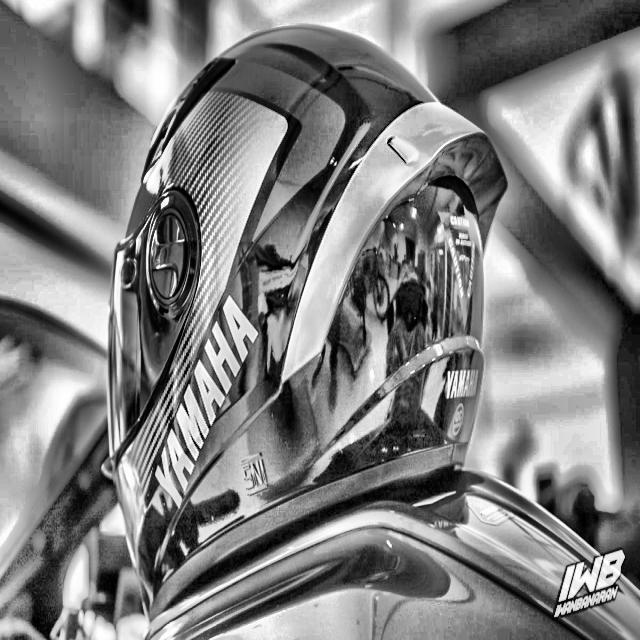Helmet: (108, 26, 507, 584)
